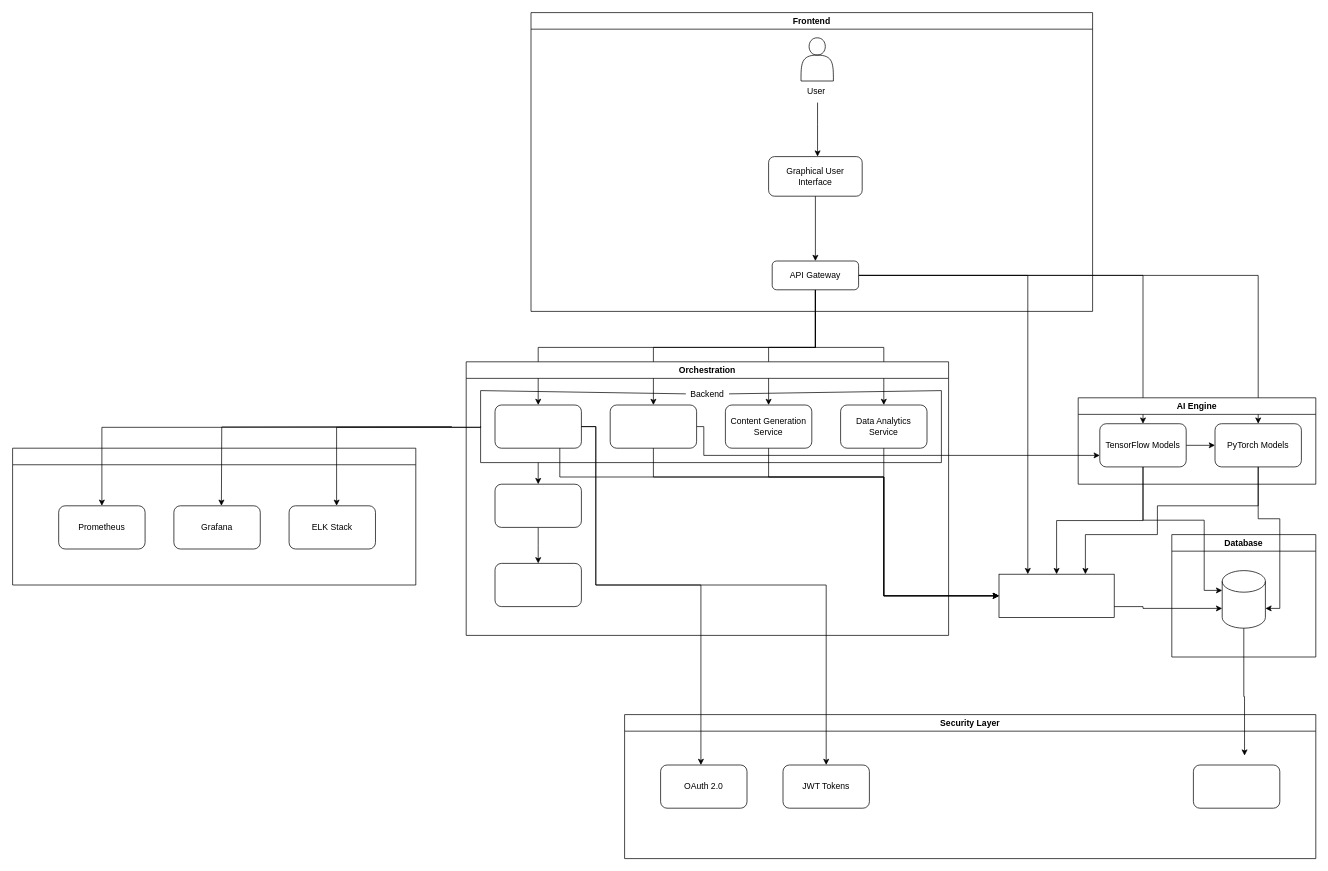
Image size: 1328x871. Some labels were removed from this diagram. Here are the shapes that lost their labels. From the top down, the centre of each, then its label:
At (537,426): "Authentication Service".
At (653,426): "Task Automation Service".
At (214,516): "Monitoring and Logging".
At (537,505): "Docker Containers".
At (537,585): "Kubernetes".
At (1056,595): "Private Cloud Network".
At (1243,599): "RDBMS".
At (1236,786): "AES-256-GCM Encryption".
